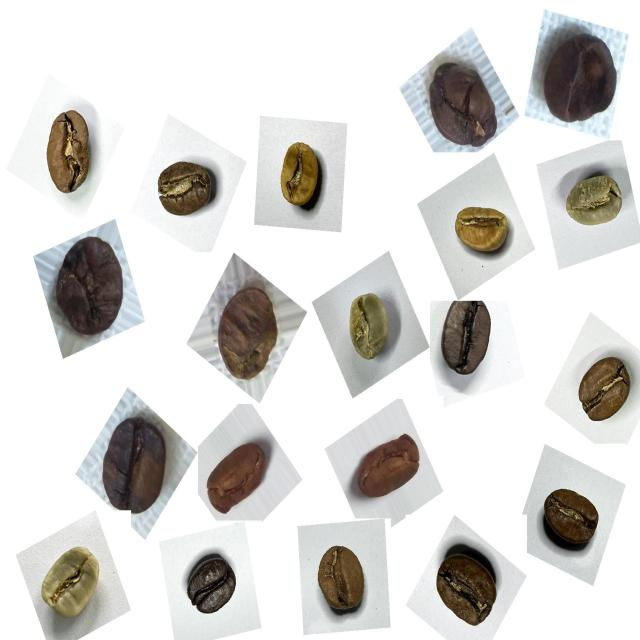bad: (531, 18, 627, 133), (46, 227, 135, 348), (92, 408, 177, 526), (204, 274, 284, 394), (420, 47, 506, 157), (194, 430, 276, 528), (345, 423, 426, 513)
dark: (434, 293, 505, 389), (179, 545, 246, 628)
green: (31, 533, 110, 633), (331, 282, 404, 372), (559, 161, 629, 239)
light: (32, 98, 106, 206), (260, 130, 333, 224), (446, 190, 520, 266)
medium: (531, 470, 609, 562), (564, 347, 640, 437), (308, 535, 380, 627), (145, 147, 223, 231), (432, 544, 502, 630)
